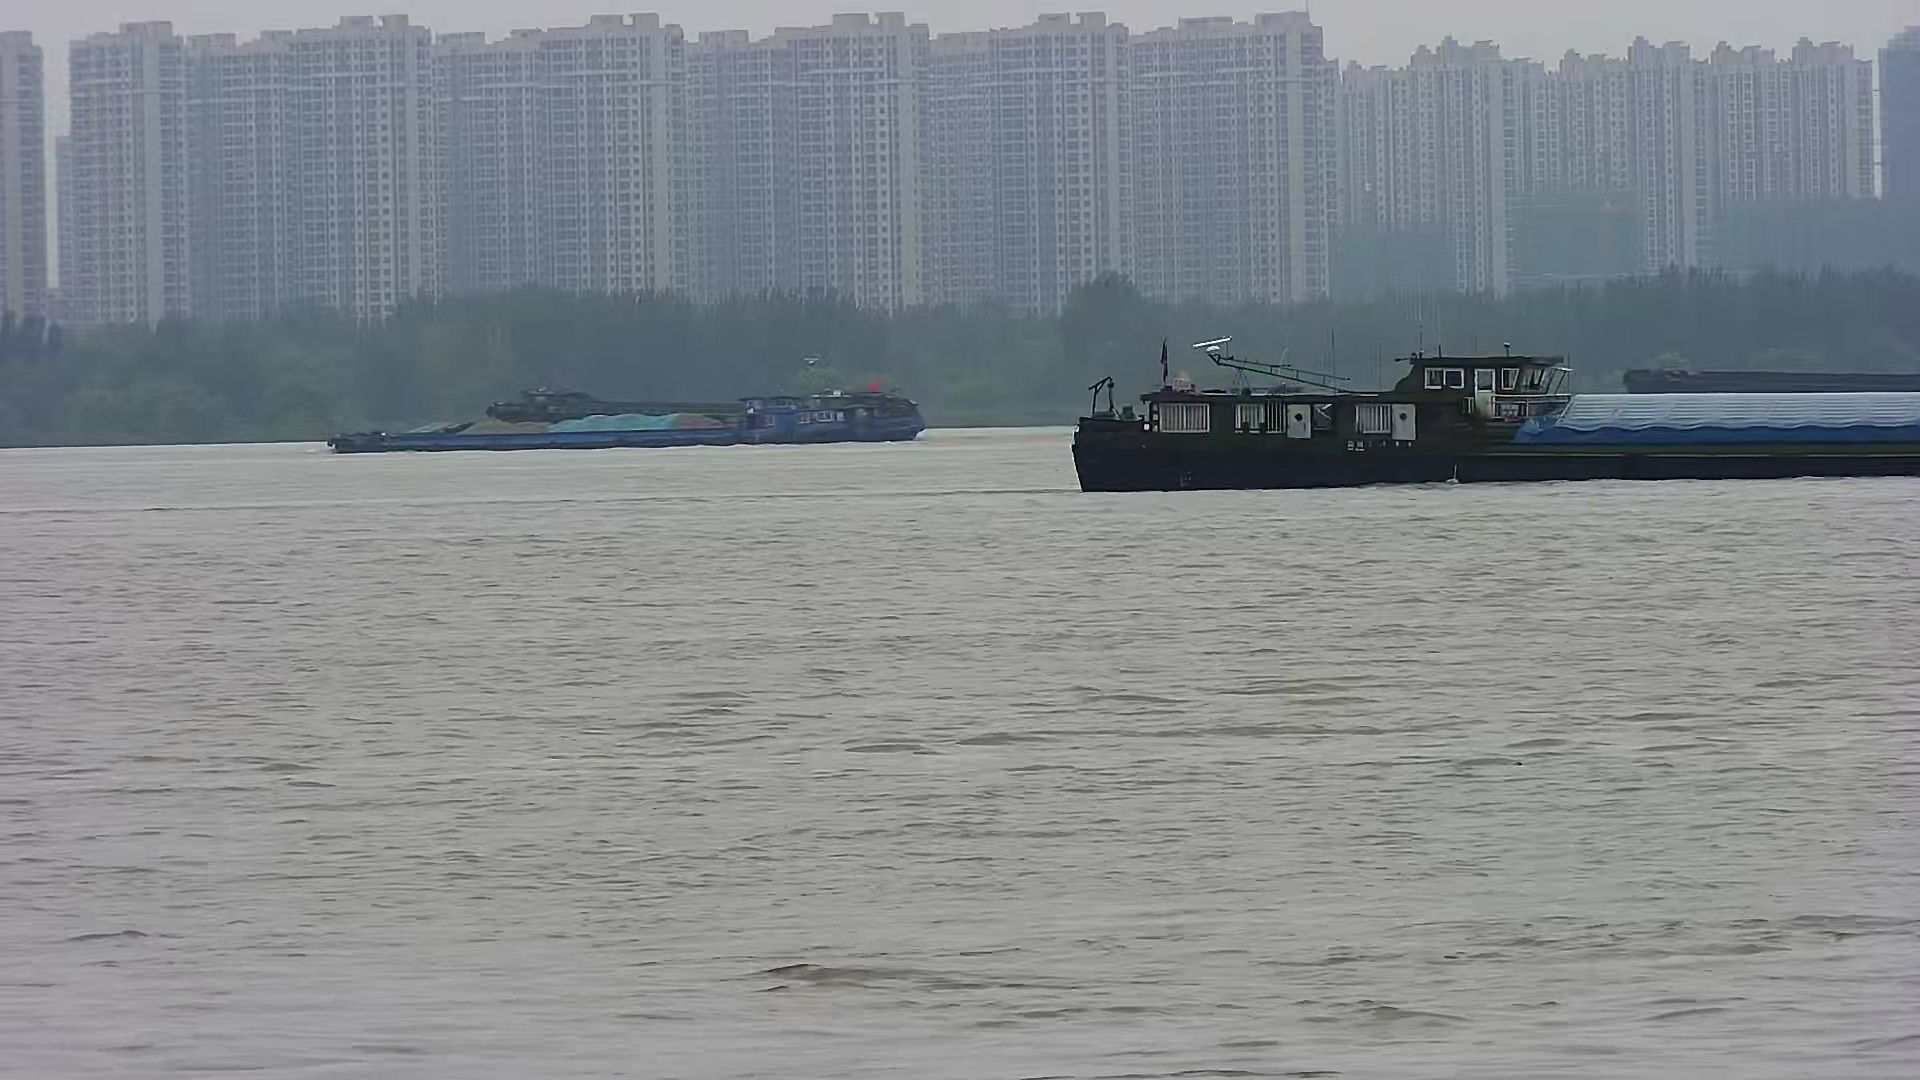ship: (1073, 331, 1920, 498), (322, 353, 924, 450), (1618, 353, 1920, 435)
